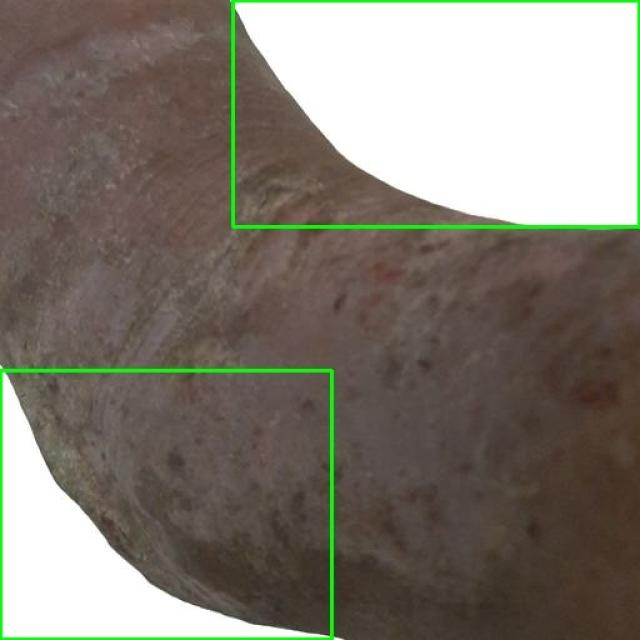Eczema: (232, 0, 639, 226), (0, 370, 331, 639)
